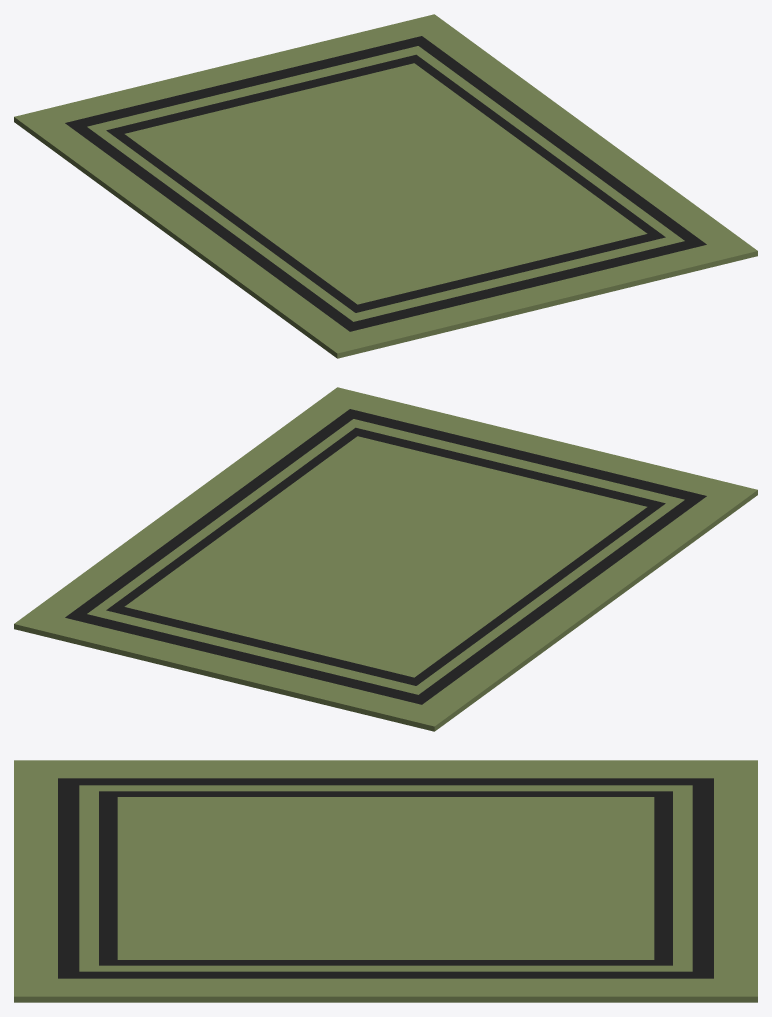
The model's file is koberec_2.fbx.
3 views of the same model, one above another, from view 1: azimuth 30°, elevation 25°; view 2: azimuth 150°, elevation 25°; view 3: azimuth 270°, elevation 25° (orthographic). The views are drawn at different scales.
Parts seen in each view (by area): view 1: koberec; view 2: koberec; view 3: koberec.
Boxes of the visible parts, <box> form: koberec: <box>14,14,757,358</box>; koberec: <box>14,387,757,731</box>; koberec: <box>14,760,757,1002</box>.
Size of the model in its own units: 685 by 8.09 by 912.
